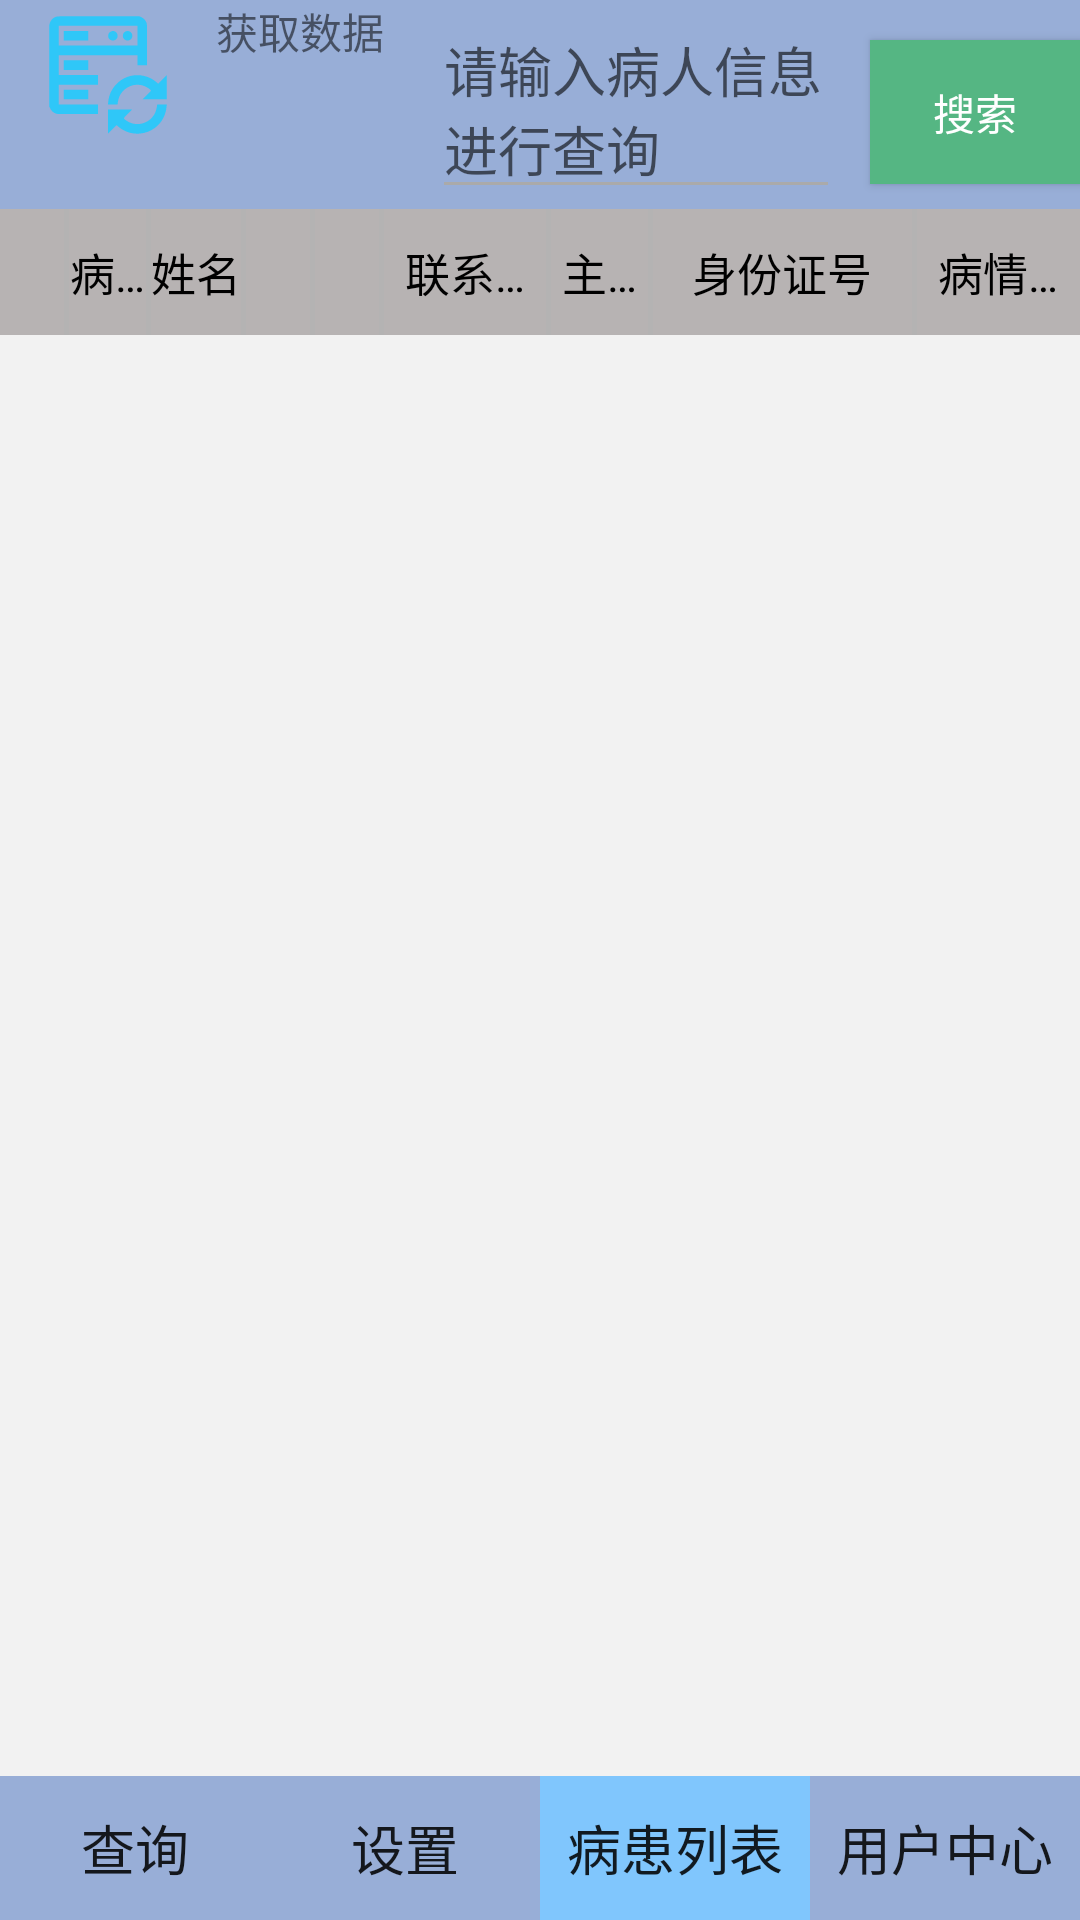

Icon bounding boxes for this 1080 x 1920 phone screenshot, format (x1, y1, x2, y2):
refresh: (49, 16, 167, 134)
